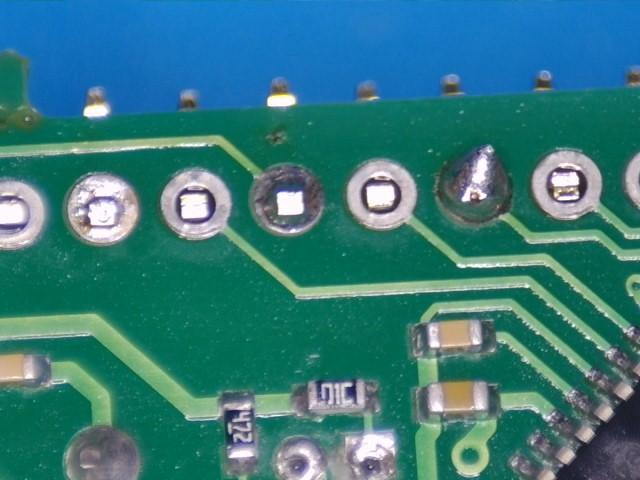Dry_joint: (440, 145, 510, 222), (254, 166, 324, 235), (69, 175, 138, 244)
